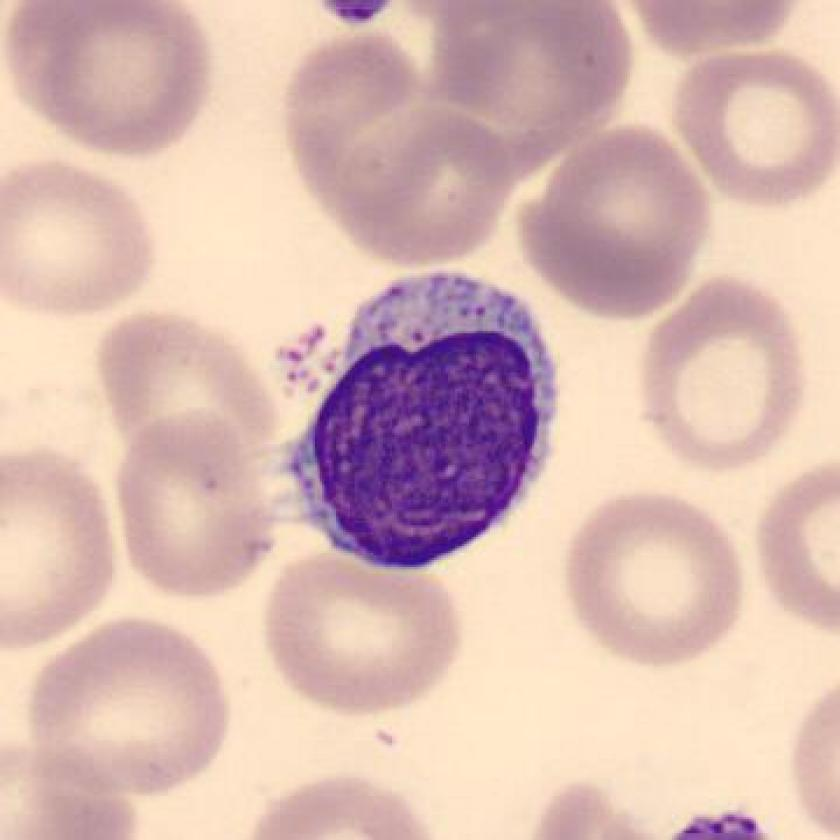lymphocyte: (279, 269, 573, 582)
